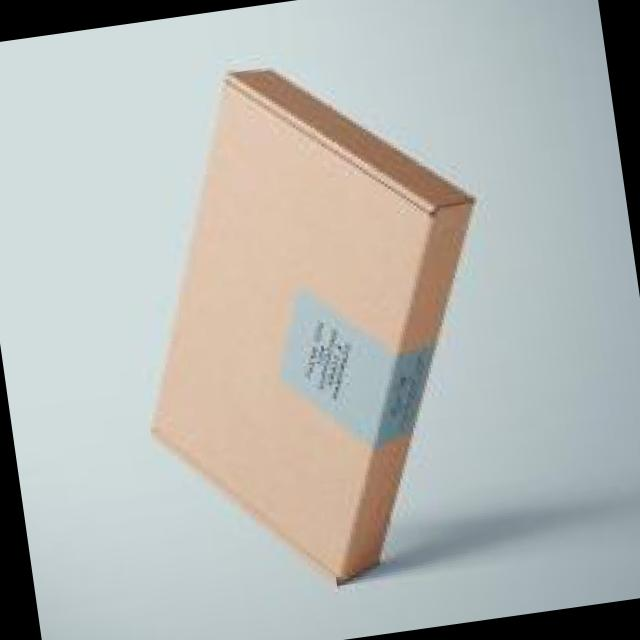box: (148, 67, 477, 584)
